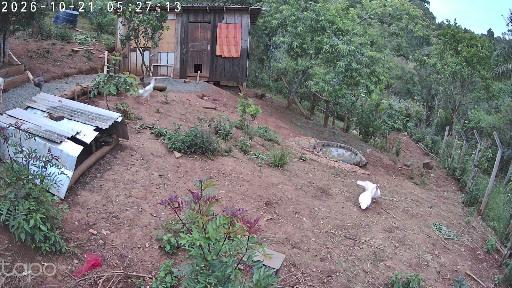frango: (99, 136, 113, 147)
galinha: (31, 77, 47, 93)
galo: (137, 76, 159, 106)
pato: (358, 186, 381, 210)
